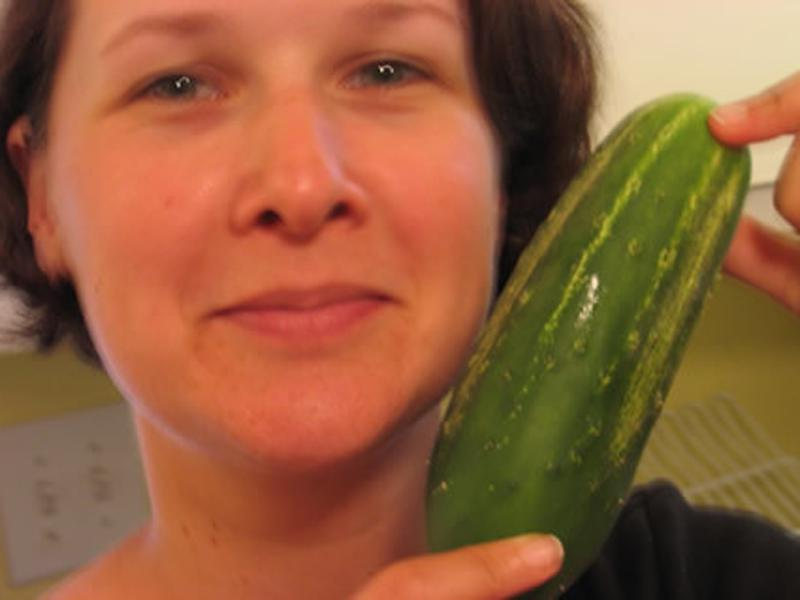Cucumber: (421, 90, 748, 598)
